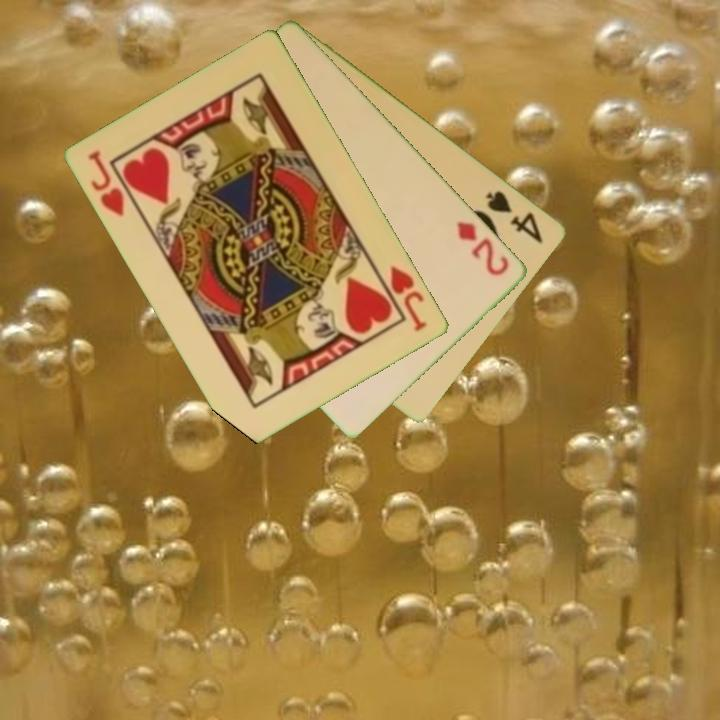2d: (453, 218, 513, 279)
4s: (482, 187, 547, 247)
Jh: (387, 262, 431, 334), (85, 147, 128, 220)
